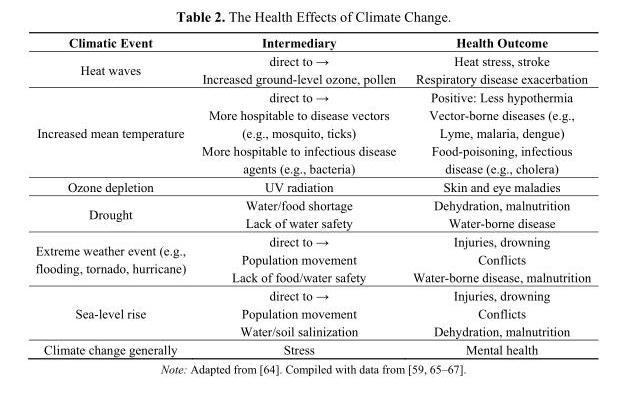table: (34, 34, 590, 356)
table column: (193, 34, 403, 356), (403, 34, 590, 356), (34, 34, 193, 356)
table column header: (34, 34, 590, 51)
table row: (34, 105, 590, 141), (34, 141, 590, 177), (34, 231, 590, 250), (34, 285, 590, 304), (34, 321, 590, 340), (34, 51, 590, 69), (34, 69, 590, 87), (34, 87, 590, 105), (34, 177, 590, 195), (34, 195, 590, 213), (34, 213, 590, 231), (34, 267, 590, 285), (34, 34, 590, 51), (34, 250, 590, 267), (34, 304, 590, 321), (34, 340, 590, 356)
table spanning cell: (34, 87, 193, 177), (34, 285, 193, 340), (34, 231, 193, 285), (34, 51, 193, 87), (34, 195, 193, 231)
